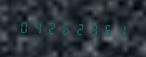four: (31, 18, 44, 35)
one: (115, 21, 128, 38)
six: (101, 20, 114, 38), (59, 19, 72, 36)
three: (87, 20, 100, 37)
two: (45, 19, 58, 36), (73, 20, 86, 37)
zero: (17, 18, 30, 35)
